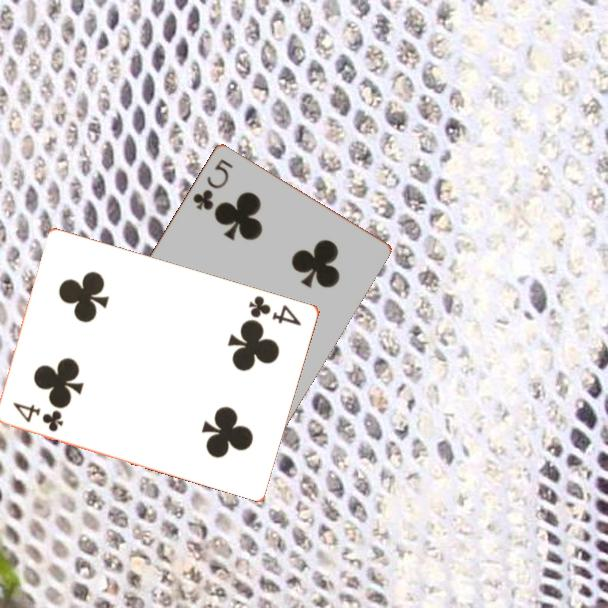c04: (245, 292, 305, 328), (10, 398, 67, 434)
c05: (189, 155, 236, 213)
